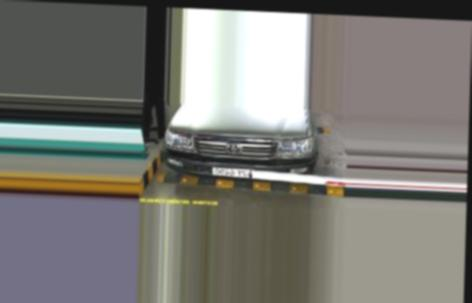License_Plate: (210, 165, 255, 182)
